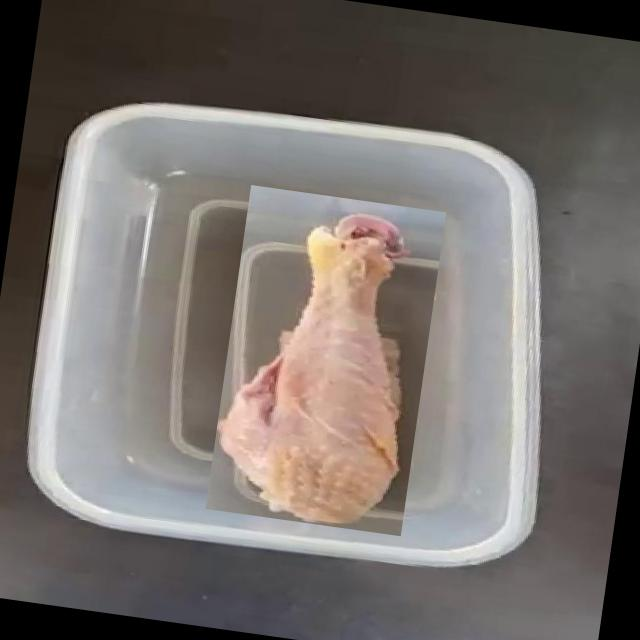chicken: (204, 184, 446, 536)
